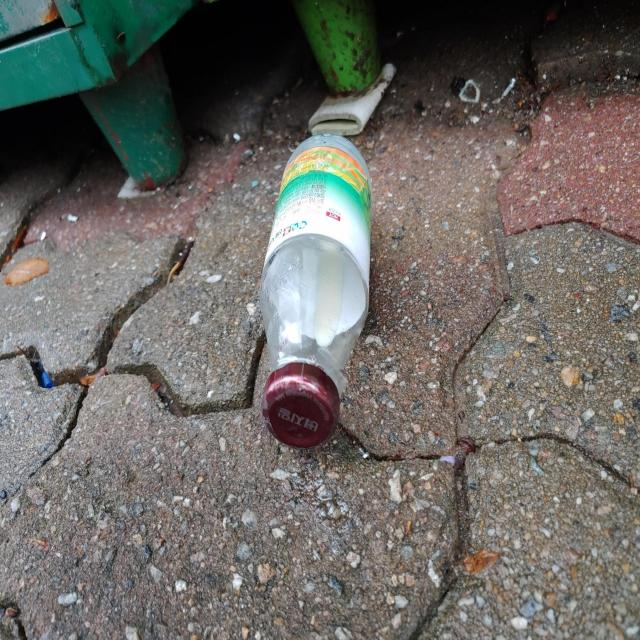glass: (260, 133, 372, 448)
